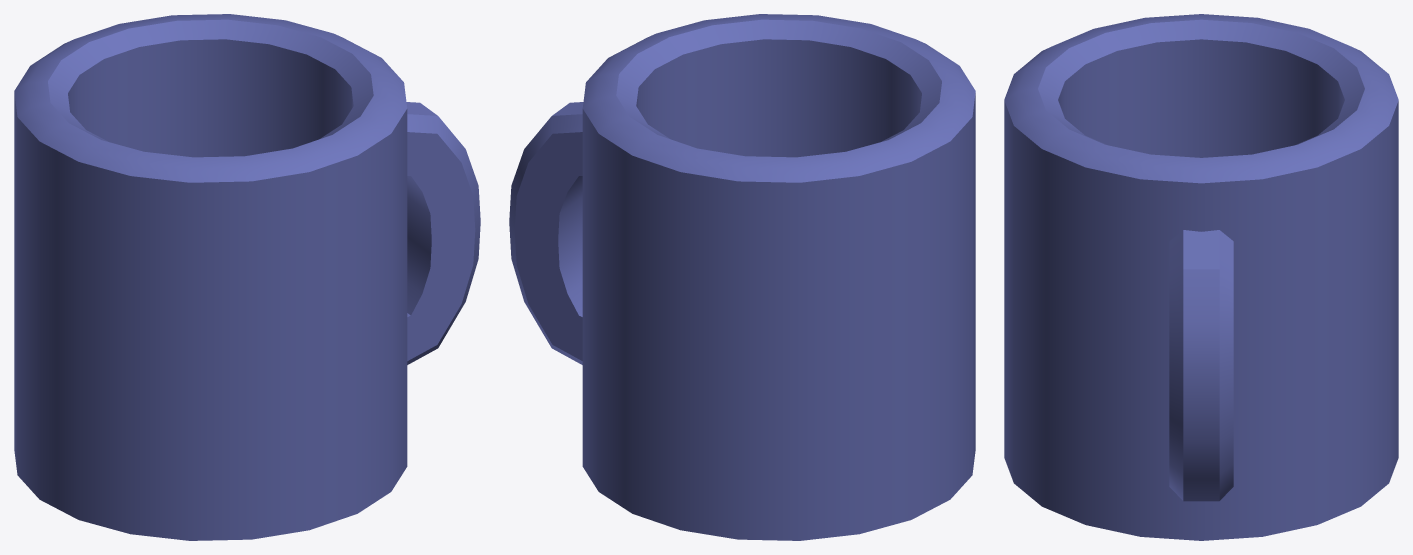
The model's file is coffeeMug.fbx.
The picture shows the model from 3 angles, left to right: view 1: azimuth 30°, elevation 25°; view 2: azimuth 150°, elevation 25°; view 3: azimuth 270°, elevation 25°; orthographic projection.
Parts seen in each view (by area): view 1: Coffee Mug; view 2: Coffee Mug; view 3: Coffee Mug.
Part boxes in pixels (x1,y1,x2,y2): Coffee Mug: [14, 14, 480, 540]; Coffee Mug: [509, 14, 975, 540]; Coffee Mug: [1004, 14, 1398, 540].
Bounding box in the file's own units: 28.22 × 22.36 × 23.06.
